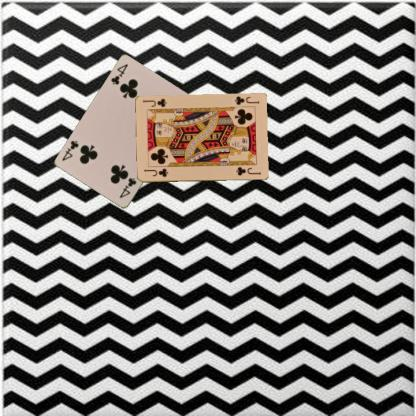4c: (116, 175, 138, 199), (108, 61, 129, 86)
Jc: (232, 94, 260, 106), (142, 166, 169, 178)
